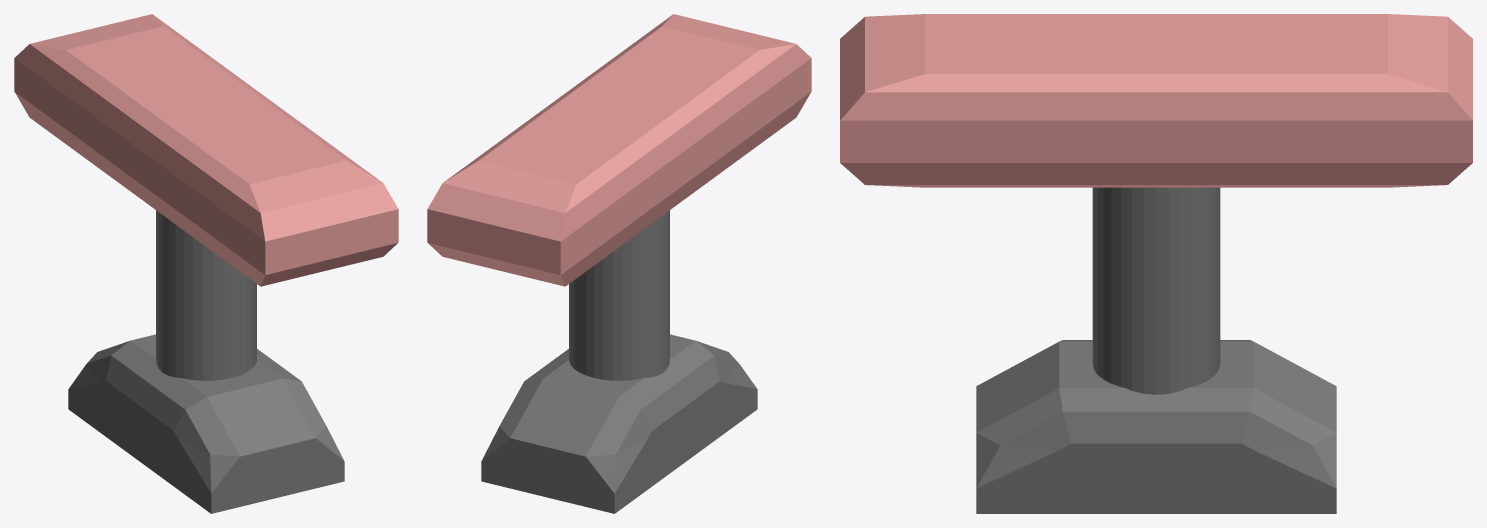
Rendered from slider.fbx.
The picture shows the model from 3 angles, left to right: view 1: azimuth 30°, elevation 25°; view 2: azimuth 150°, elevation 25°; view 3: azimuth 270°, elevation 25°; orthographic projection. The views are drawn at different scales.
Parts seen in each view (by area): view 1: Cube.001; view 2: Cube.001; view 3: Cube.001.
Part boxes in pixels (x1,y1,x2,y2): Cube.001: (14,14,398,513); Cube.001: (427,14,811,513); Cube.001: (840,14,1472,513).
Size of the model in its own units: 200 by 488 by 652.
